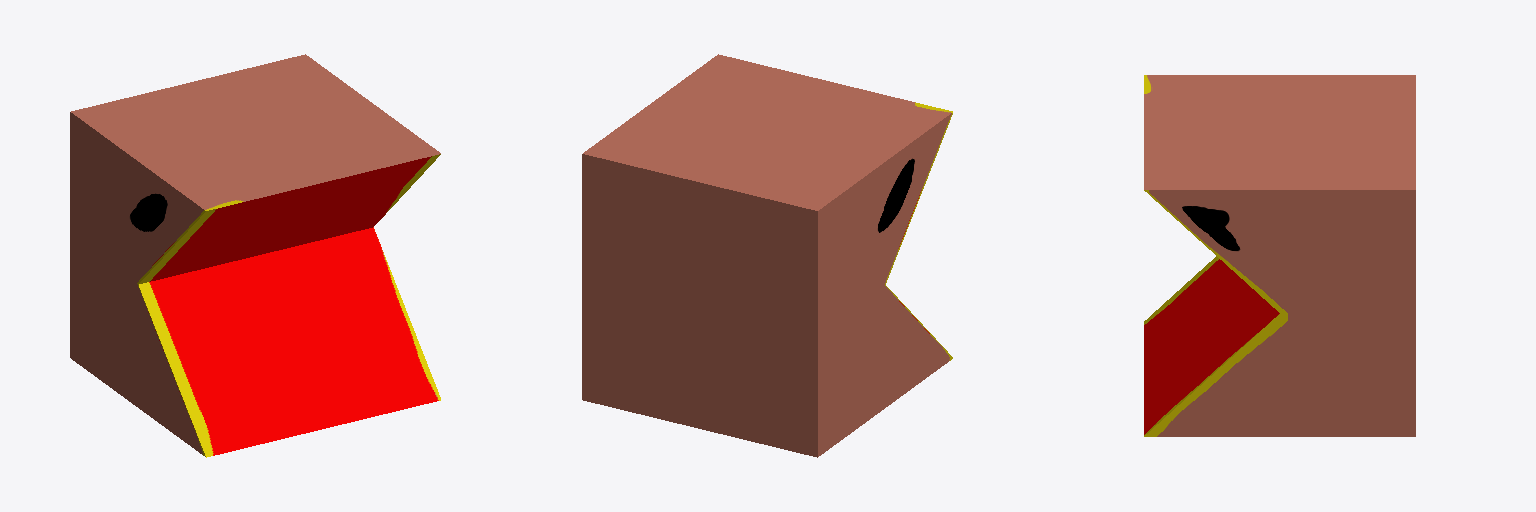
3 views of the same model, side by side, from view 1: azimuth 30°, elevation 25°; view 2: azimuth 150°, elevation 25°; view 3: azimuth 270°, elevation 25° (orthographic).
Visible parts, largest first — view 1: Cube; view 2: Cube; view 3: Cube.
Boxes of the visible parts, x1=… form: Cube: x1=70, y1=54, x2=440, y2=457; Cube: x1=582, y1=54, x2=952, y2=457; Cube: x1=1144, y1=75, x2=1415, y2=436.
Size of the model in its own units: 2 by 2 by 2.
1 materials, 1 textured.